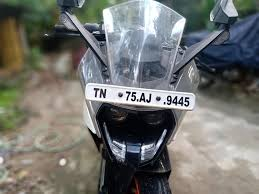numberplate: (84, 82, 195, 110)
